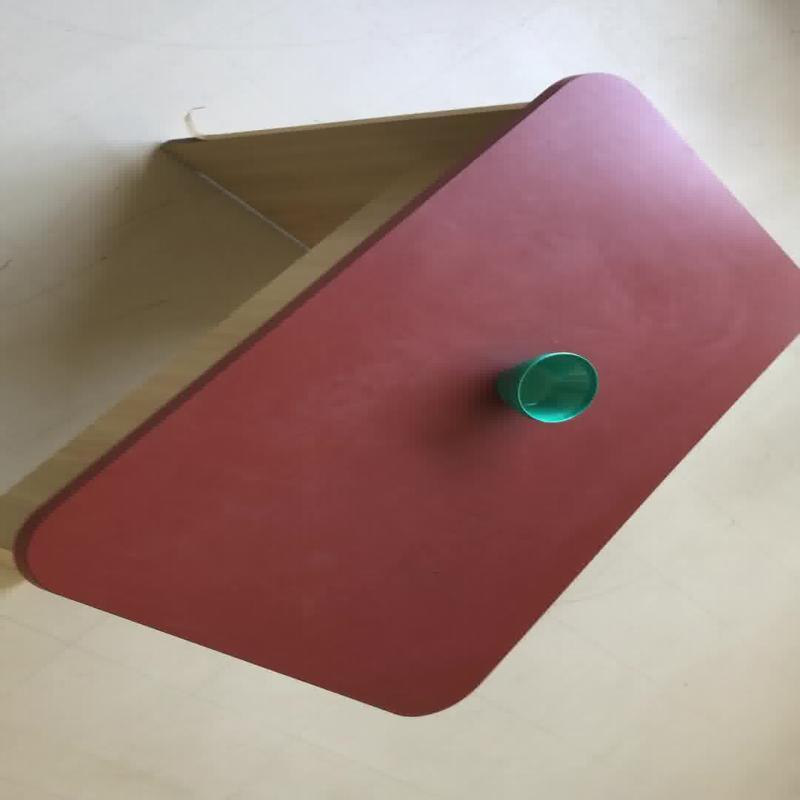bowl: (9, 70, 797, 718), (496, 350, 598, 422)
